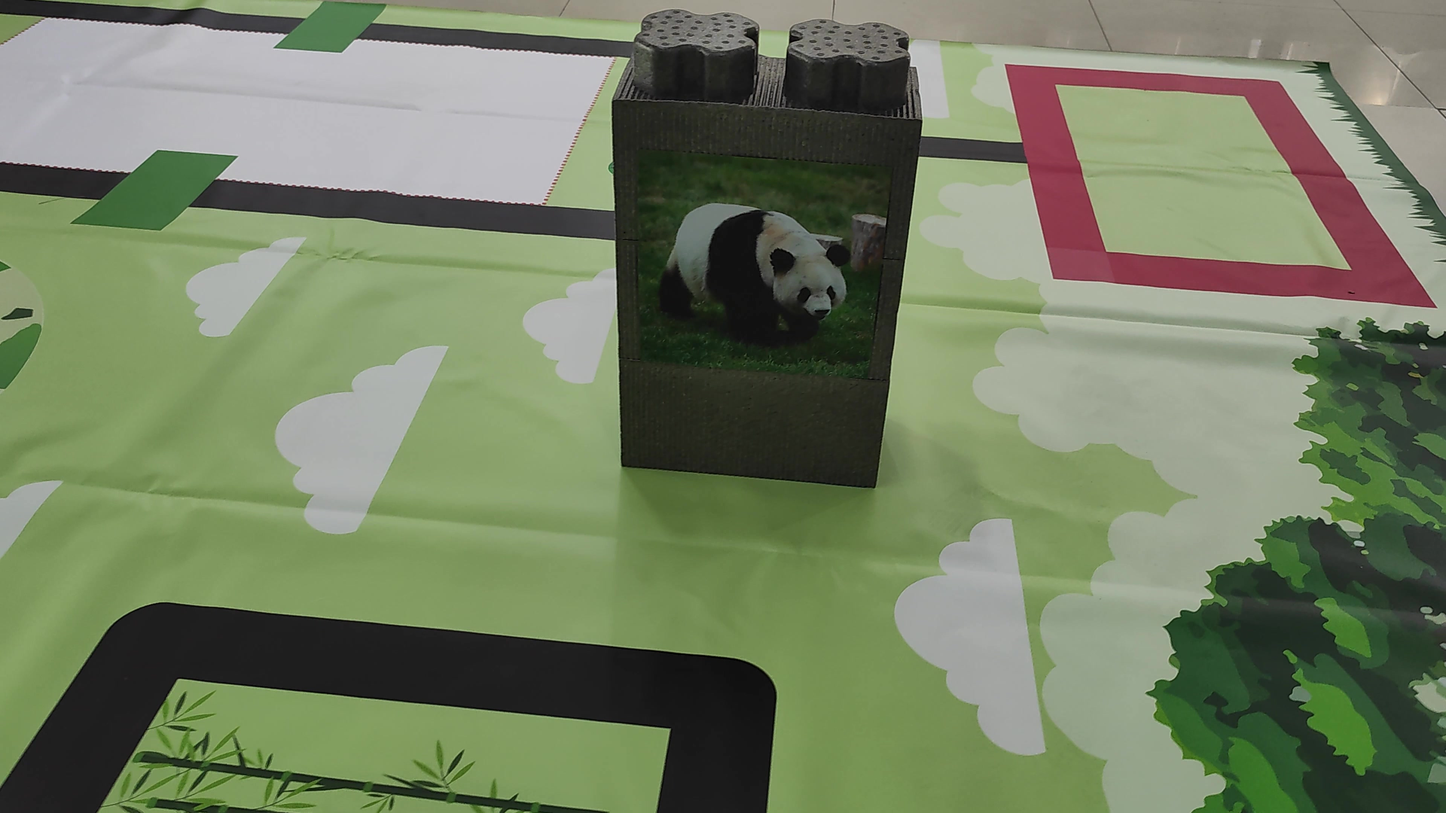panda: (627, 168, 876, 355)
